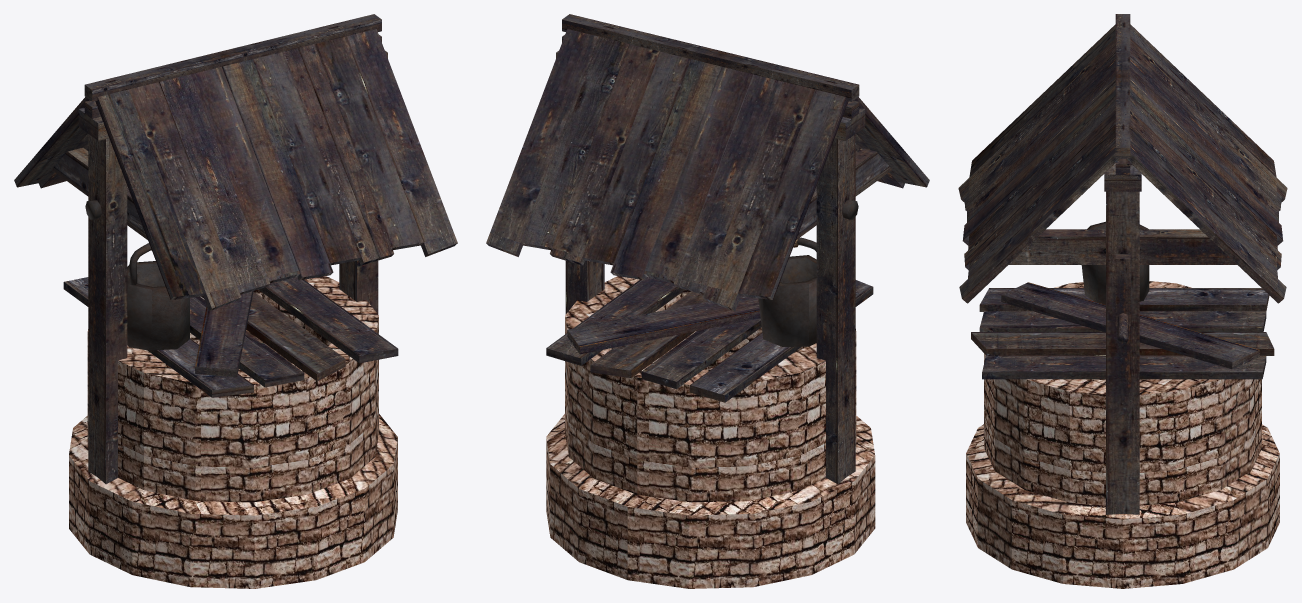
The model's file is well.fbx.
3 views of the same model, side by side, from view 1: azimuth 30°, elevation 25°; view 2: azimuth 150°, elevation 25°; view 3: azimuth 270°, elevation 25° (orthographic). The views are drawn at different scales.
Parts seen in each view (by area): view 1: Well; view 2: Well; view 3: Well.
Part boxes in pixels (left/top/right/bottom): Well: left=14, top=14, right=457, bottom=588; Well: left=486, top=14, right=929, bottom=588; Well: left=958, top=14, right=1287, bottom=588.
Size of what is drawn, in the model's own units: 1.89 by 2.46 by 1.66.
5 materials, 4 textured.
